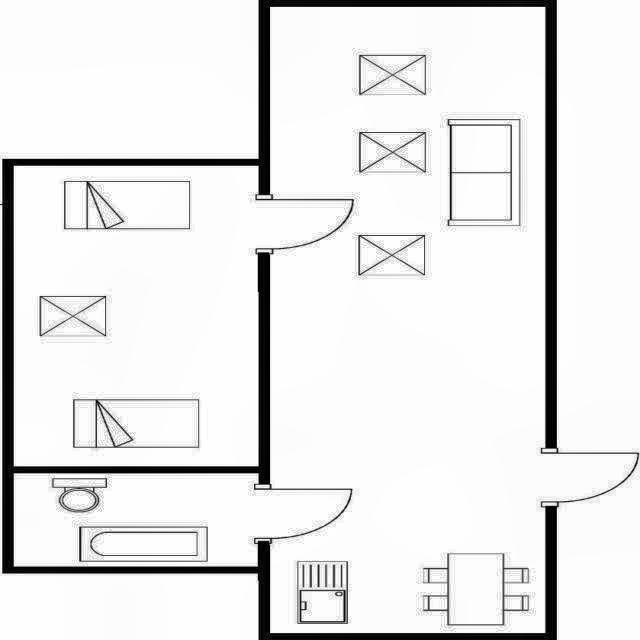room: (270, 7, 545, 633), (14, 166, 259, 466), (14, 473, 258, 567)
